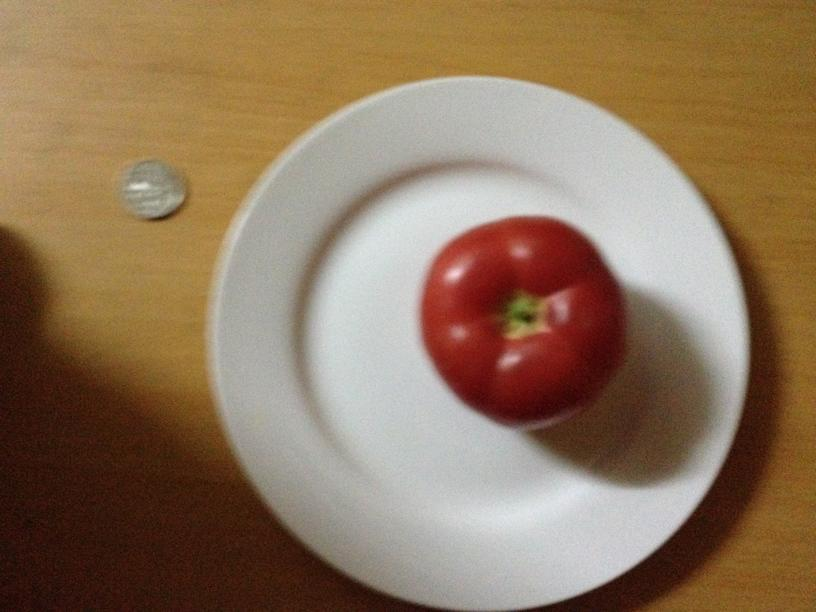coin: (117, 155, 191, 224)
tomato: (125, 180, 192, 238)
